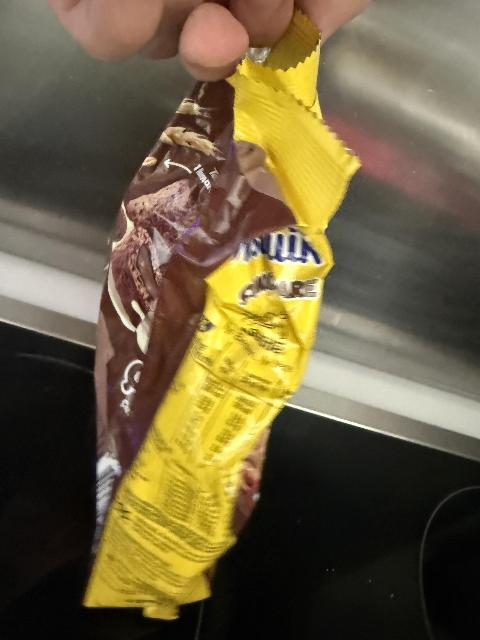Plastik: (81, 35, 360, 624)
